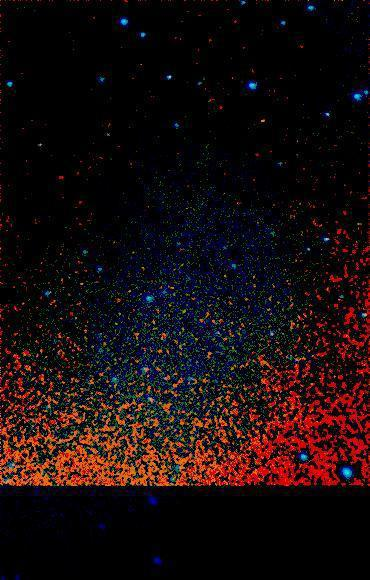star: (247, 107, 277, 137)
